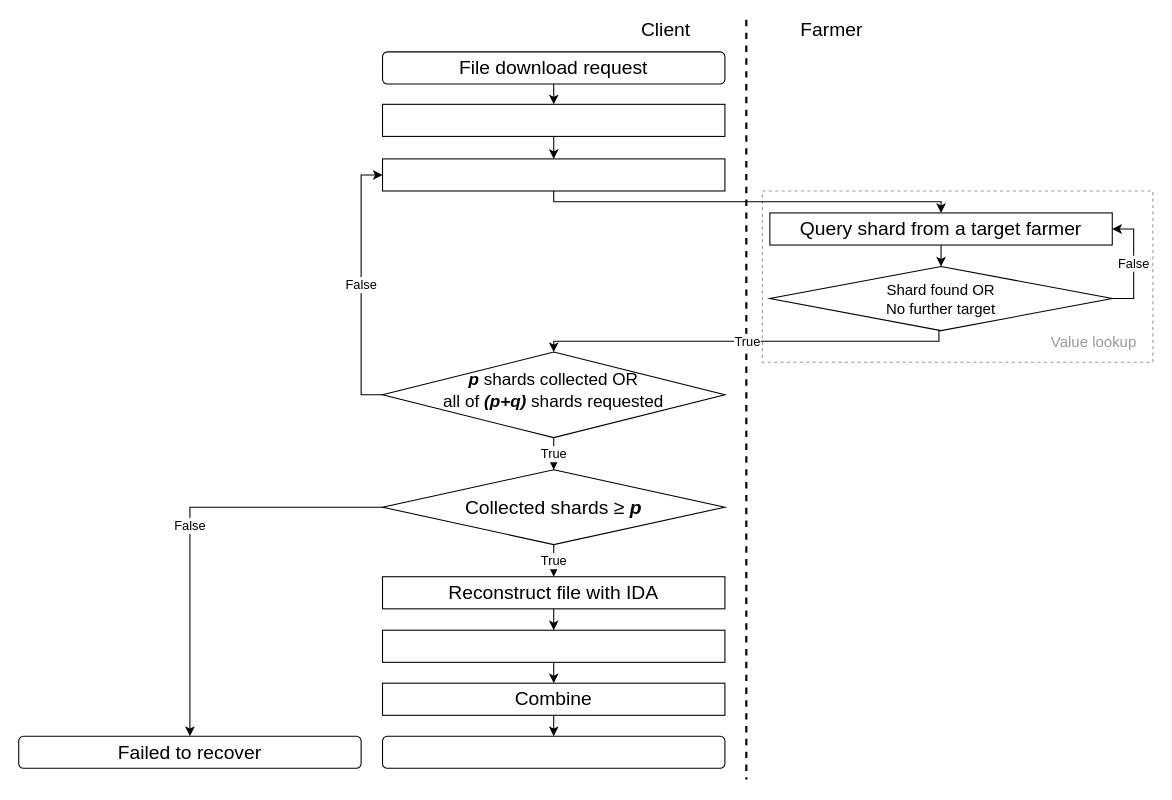
The diagram is 1172 pixels wide and 800 high, and some of its shapes have lost their labels. Each missing label, with the centre of its shape:
Decryption: (553,645)
End: (553,751)
Get shard hashes: (553,119)
Request shards in parallel: (553,174)
